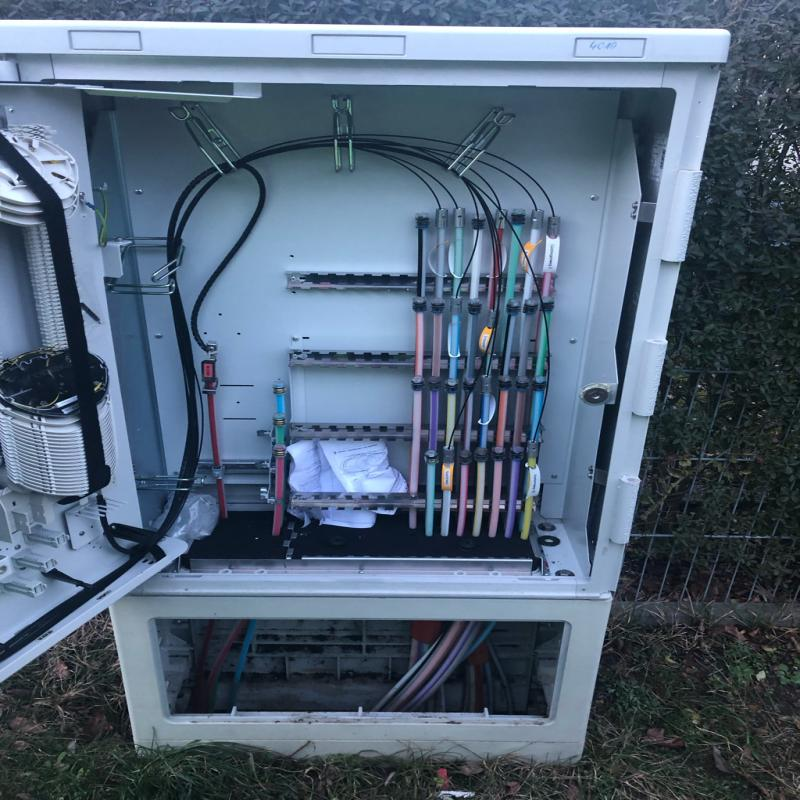NT-Gehause: (0, 19, 722, 765)
Spleiskassetten: (0, 113, 122, 525)
